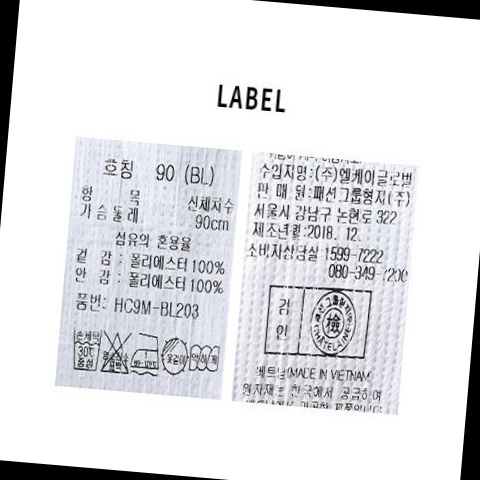DN_bleach: (100, 330, 135, 376)
hand_wash: (71, 325, 105, 374)
iron_low: (129, 332, 162, 375)
line_dry_in_shade: (159, 334, 191, 380)
wring: (188, 339, 222, 378)
